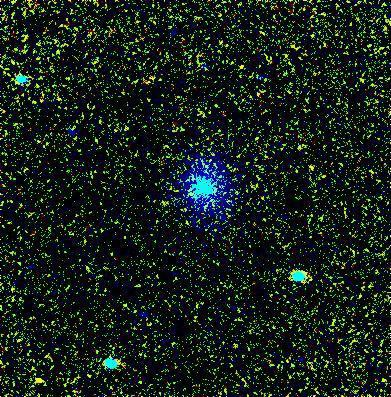star: (26, 365, 56, 395)
